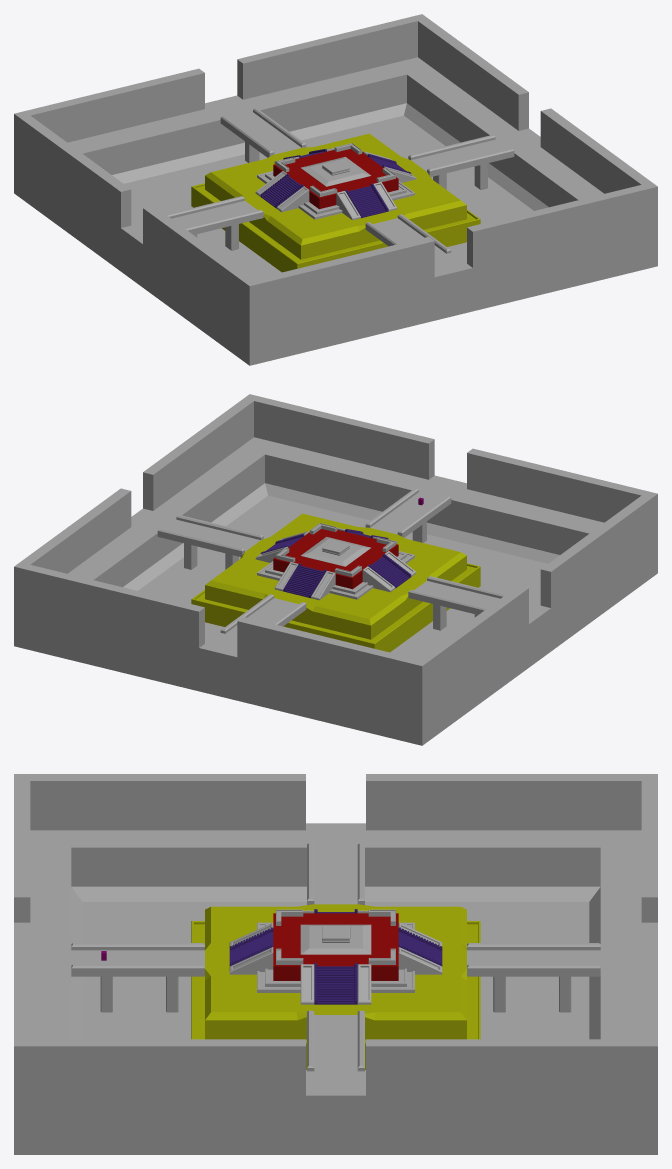
The model's file is praca.fbx.
The picture shows the model from 3 angles, top to bottom: view 1: azimuth 30°, elevation 25°; view 2: azimuth 150°, elevation 25°; view 3: azimuth 270°, elevation 25°; orthographic projection. The views are drawn at different scales.
Visible parts, largest first — view 1: pCube74; view 2: pCube74; view 3: pCube74.
Boxes of the visible parts, bbox=[...] form: pCube74: bbox=[14, 14, 657, 365]; pCube74: bbox=[14, 394, 657, 745]; pCube74: bbox=[14, 774, 657, 1154].
Size of the model in its own units: 236 by 44 by 236.
